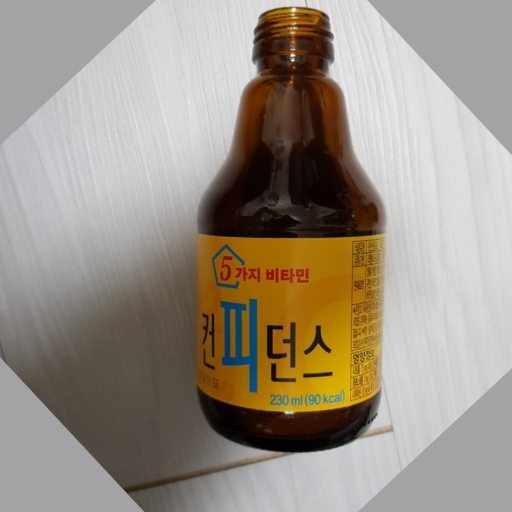Glass_3: (191, 5, 391, 454)
